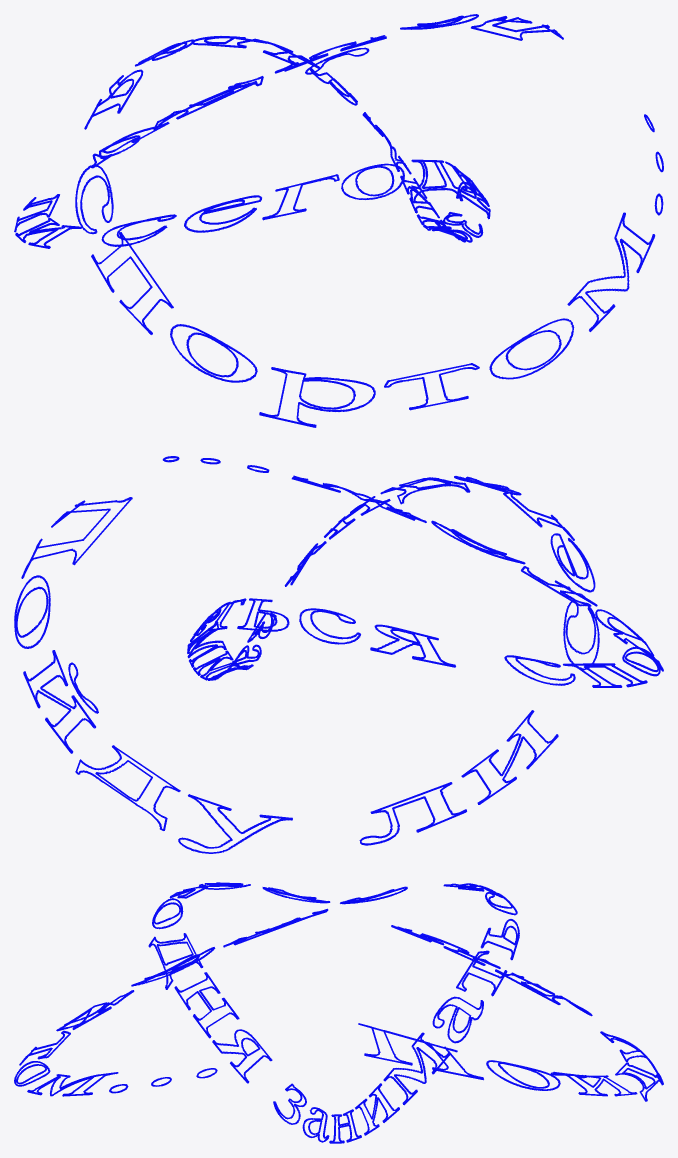
The picture shows the model from 3 angles, top to bottom: view 1: azimuth 30°, elevation 25°; view 2: azimuth 150°, elevation 25°; view 3: azimuth 270°, elevation 25°; orthographic projection. The views are drawn at different scales.
Size of the model in its own units: 0.8141 by 0.2929 by 1.
